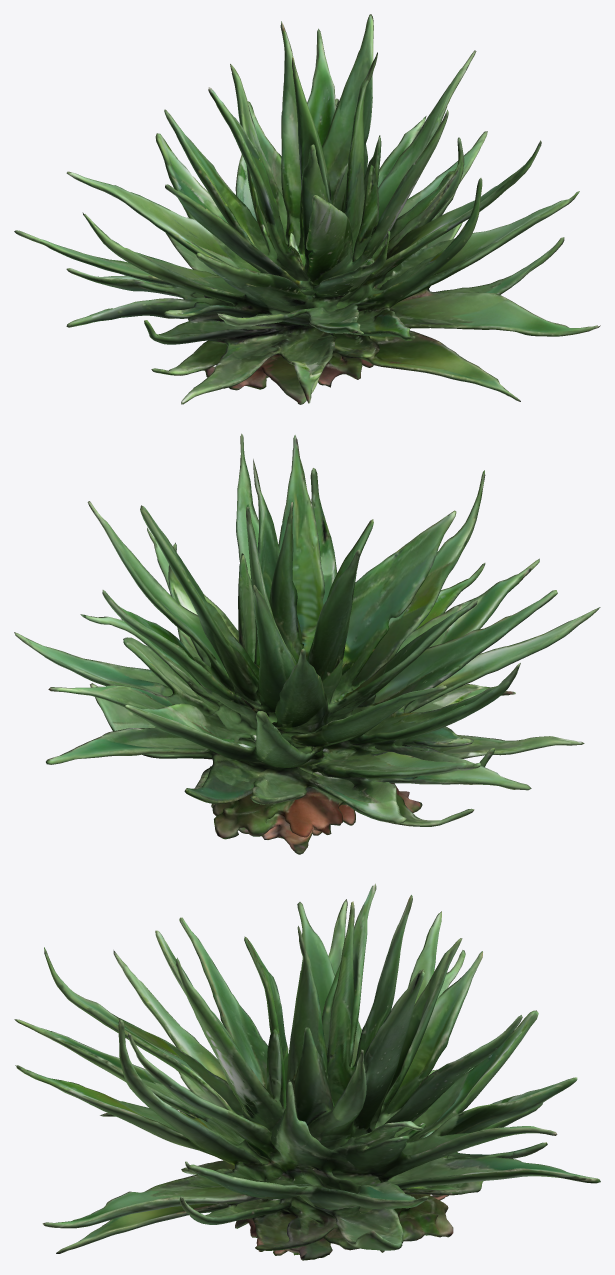
The model's file is aloevera.glb.
The picture shows the model from 3 angles, top to bottom: view 1: azimuth 30°, elevation 25°; view 2: azimuth 150°, elevation 25°; view 3: azimuth 270°, elevation 25°; orthographic projection. The views are drawn at different scales.
Bounding box in the file's own units: 2 × 1.29 × 2.
Materials: 1 (1 with a texture image).
